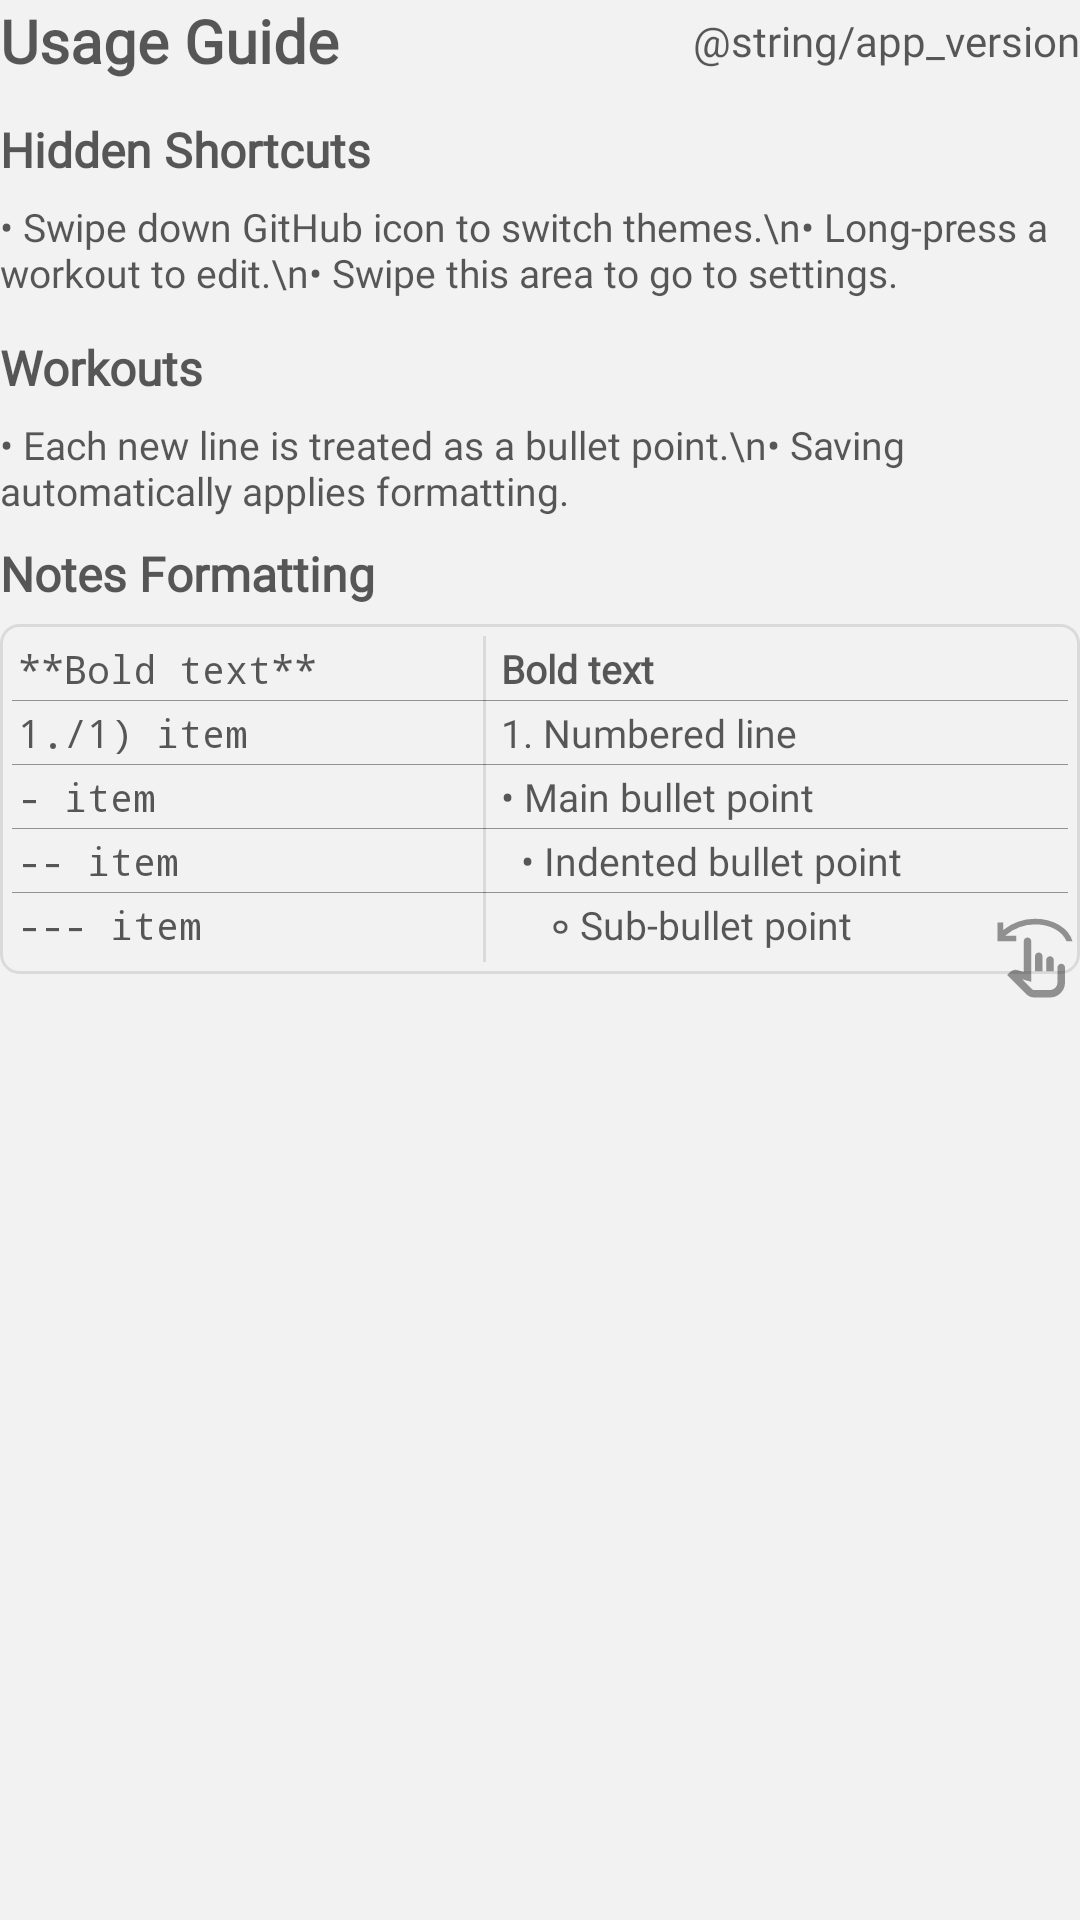

Icons on this 1080 x 1920 Android screen, each with its box as BBox(x1, y1, x2, y2):
Swipe left icon: BBox(997, 919, 1072, 998)
